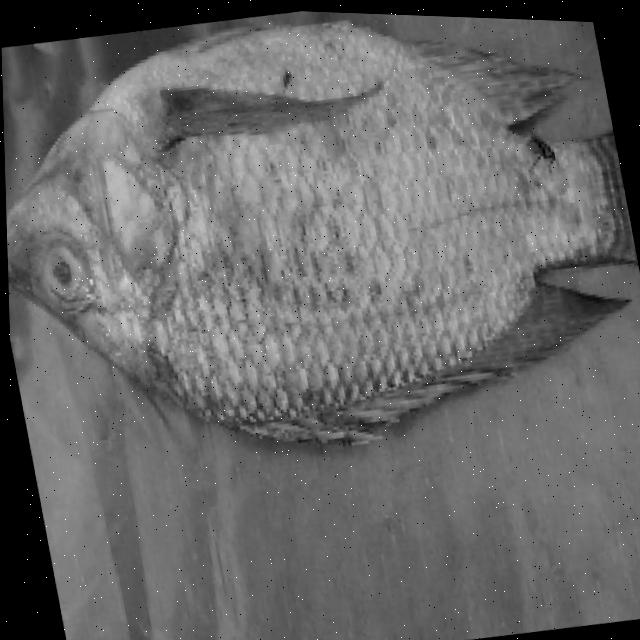Non-Fresh: (0, 0, 480, 461), (18, 215, 105, 327)
